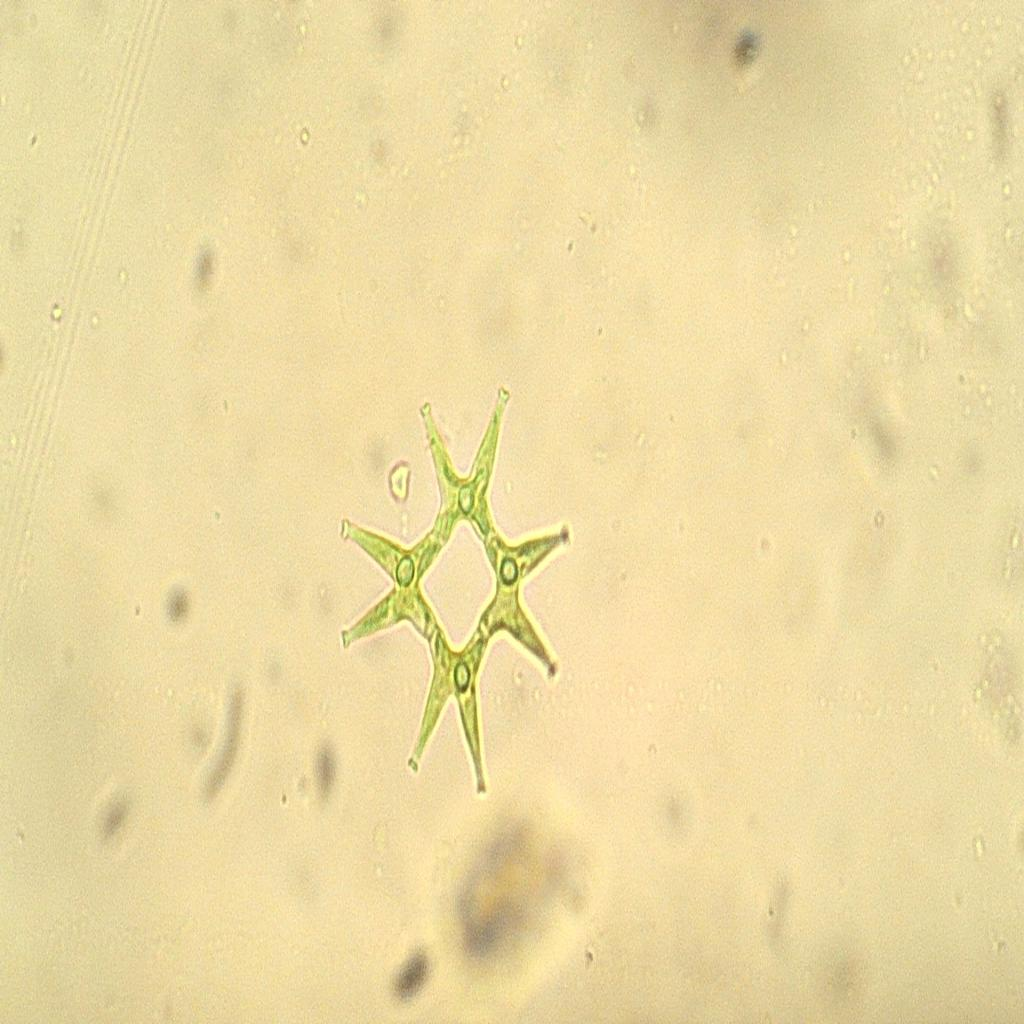Pediastrum_CO: (326, 373, 580, 811)
